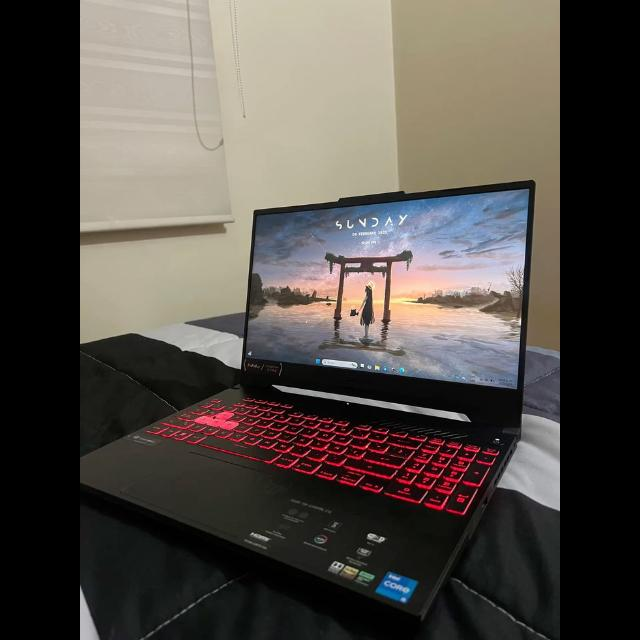laptop: (80, 180, 535, 622)
